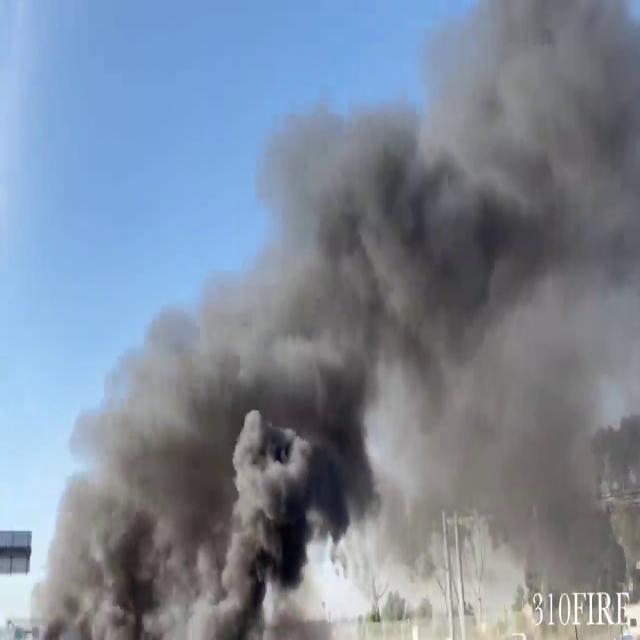Smoke: (46, 12, 638, 640)
